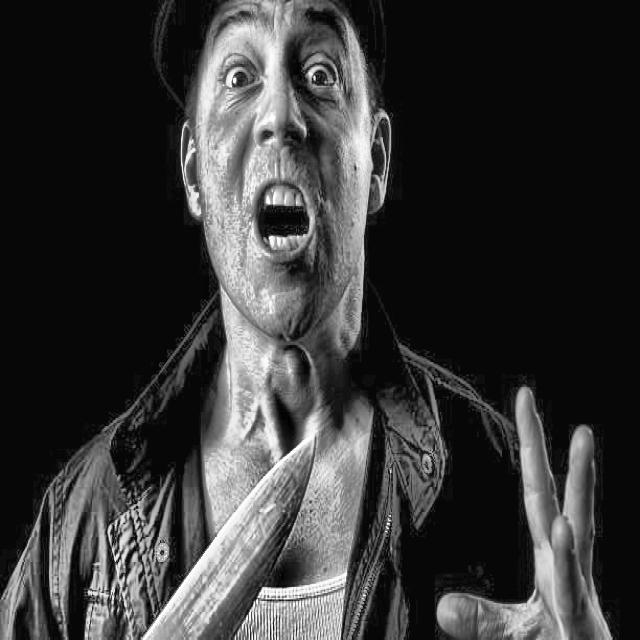pisau: (136, 434, 319, 638)
